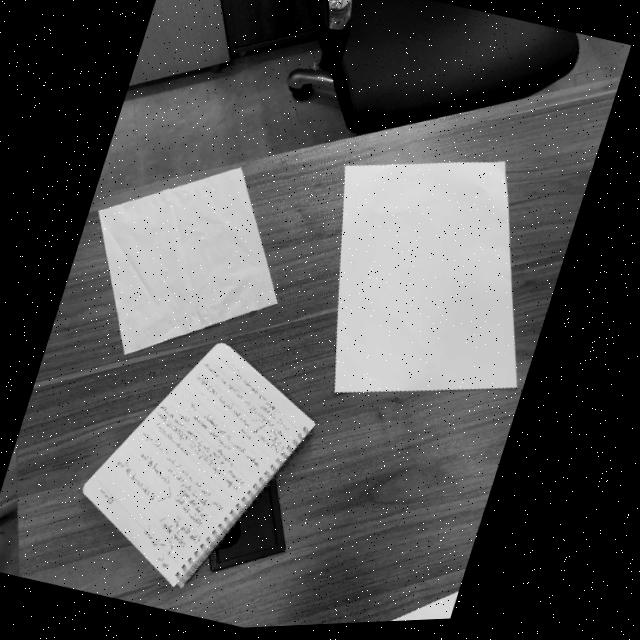document: (83, 343, 314, 587)
